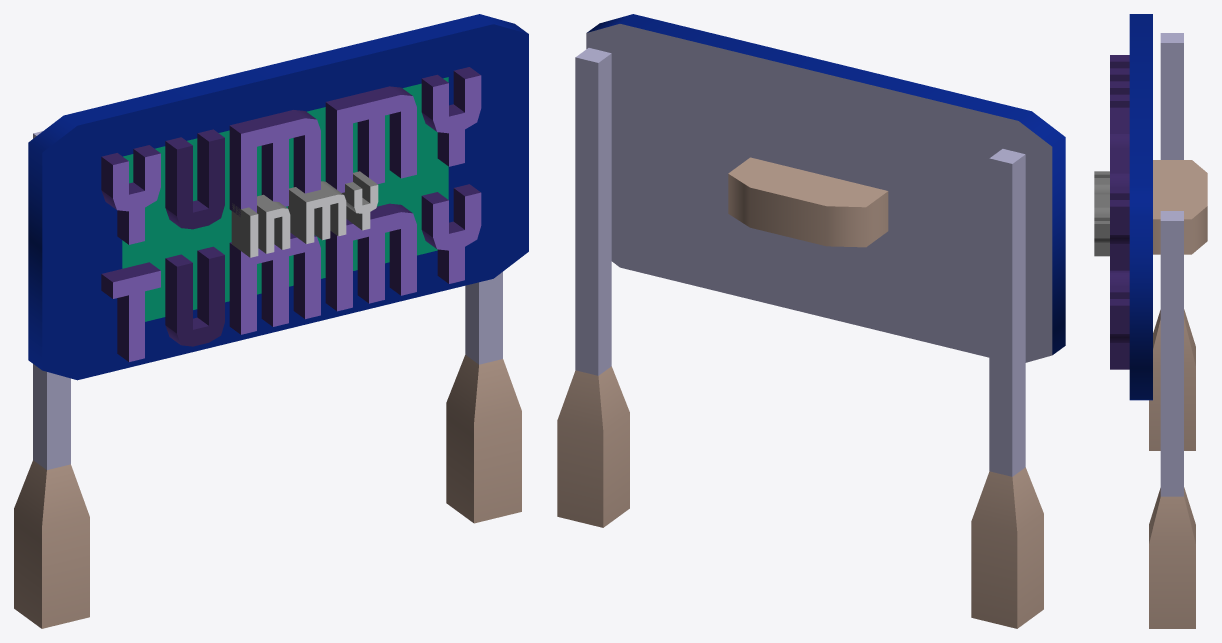
Rendered from yummyintummy.fbx.
3 renders of one model, left to right at view 1: azimuth 30°, elevation 25°; view 2: azimuth 150°, elevation 25°; view 3: azimuth 270°, elevation 25°, orthographic. The views are drawn at different scales.
Parts seen in each view (by area): view 1: lightpost_signSquare%, M (×5), lightpost_squarePole% (×2), Y (×4), U (×2), T, N, I; view 2: lightpost_signSquare%, lightpost_squarePole% (×2); view 3: lightpost_squarePole% (×2), lightpost_signSquare%, Y (×4), M (×4), U, N.
Part boxes in pixels (<box>): lightpost_signSquare%: <box>28,14,528,380</box>; M (×5): <box>229,86,416,334</box>; lightpost_squarePole% (×2): <box>14,131,521,628</box>; Y (×4): <box>101,67,481,283</box>; U (×2): <box>165,129,224,346</box>; T: <box>101,262,160,361</box>; N: <box>257,194,290,253</box>; I: <box>231,203,258,257</box>; lightpost_signSquare%: <box>586,14,1065,362</box>; lightpost_squarePole% (×2): <box>557,48,1043,628</box>; lightpost_squarePole% (×2): <box>1149,33,1195,628</box>; lightpost_signSquare%: <box>1129,14,1207,400</box>; Y (×4): <box>1094,55,1129,369</box>; M (×4): <box>1094,107,1129,285</box>; U: <box>1110,81,1129,107</box>; N: <box>1094,178,1109,194</box>.
Bounding box in the file's own units: 30.7 × 30.2 × 7.25.
